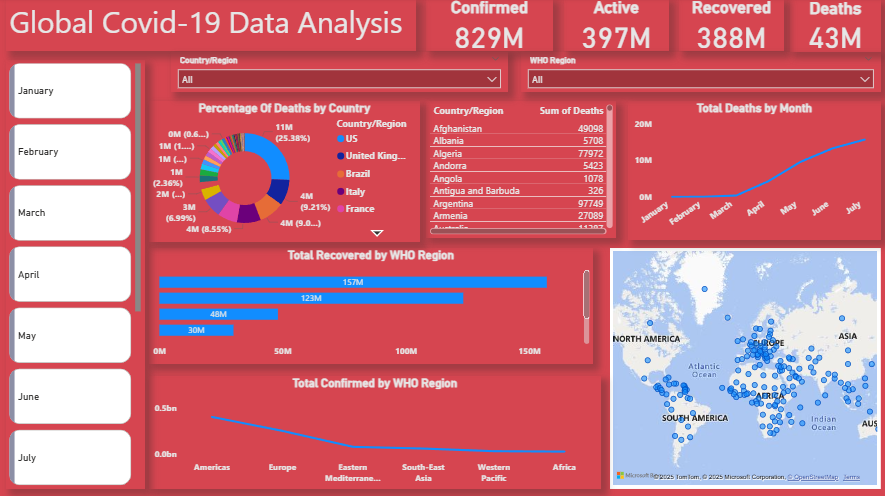

This screenshot's page, from the dashboard's own definition file:
{"tool":"powerbi","page":{"name":"Page 1","canvas":[1280,720],"ordinal":0},"visuals":[{"type":"textbox","box":[10.1,0,591.3,77.3],"z":0},{"type":"card","title":"Confirmed","fields":{"Values":["Sum(covid_19_clean_complete.Confirmed)"]},"box":[614.8,0,183.1,77.3],"z":1000},{"type":"card","title":"Active","fields":{"Values":["Sum(covid_19_clean_complete.Active)"]},"box":[813,0,151.2,77.3],"z":2000},{"type":"card","title":"Recovered","fields":{"Values":["Sum(covid_19_clean_complete.Recovered)"]},"box":[979.3,0,151.2,77.3],"z":3000},{"type":"card","title":"Deaths","fields":{"Values":["Sum(covid_19_clean_complete.Deaths)"]},"box":[1138.9,1.7,131,75.6],"z":4000},{"type":"advancedSlicerVisual","fields":{"Values":["covid_19_clean_complete.Date.Variation.Date Hierarchy.Month"]},"box":[10.1,89,199.9,618.2],"z":5000},{"type":"map","fields":{"Category":["covid_19_clean_complete.Country/Region"]},"box":[879.8,360,390.2,347],"z":6000},{"type":"lineChart","title":"Total Deaths by Month","fields":{"Y":["Sum(covid_19_clean_complete.Deaths)"],"Category":["covid_19_clean_complete.Date.Variation.Date Hierarchy.Month","covid_19_clean_complete.Date.Variation.Date Hierarchy.Day"]},"box":[905.8,148.3,364.3,200.2],"z":7000},{"type":"donutChart","title":"Percentage Of Deaths by Country","fields":{"Y":["Sum(covid_19_clean_complete.Deaths)"],"Category":["covid_19_clean_complete.Country/Region"]},"box":[216,148.3,390.2,203],"z":8000},{"type":"lineChart","title":"Total Confirmed by WHO Region","fields":{"Y":["Sum(covid_19_clean_complete.Confirmed)"],"Category":["covid_19_clean_complete.WHO Region"]},"box":[216,544.3,650.9,162.7],"z":9000},{"type":"tableEx","fields":{"Values":["covid_19_clean_complete.Country/Region","Sum(covid_19_clean_complete.Deaths)"]},"box":[614.9,148.3,273.6,197.3],"z":10000},{"type":"barChart","title":"Total Recovered by WHO Region","fields":{"Category":["covid_19_clean_complete.WHO Region"],"Y":["Sum(covid_19_clean_complete.Recovered)"]},"box":[216,360,639.4,167],"z":11000},{"type":"slicer","fields":{"Values":["covid_19_clean_complete.Country/Region"]},"box":[247.7,77.8,485.3,57.6],"z":12000},{"type":"slicer","fields":{"Values":["covid_19_clean_complete.WHO Region"]},"box":[751.7,77.8,518.4,57.6],"z":13000}]}

Visuals, with their boxes in screenshot pixels (x1, y1, x2, y2), scaled from the page's 1280x720 canvas onto the 885x496 screenshot:
textbox: region(7, 0, 416, 53)
"Confirmed" card: region(425, 0, 552, 53)
"Active" card: region(562, 0, 667, 53)
"Recovered" card: region(677, 0, 782, 53)
"Deaths" card: region(787, 1, 878, 53)
advancedSlicerVisual - covid_19_clean_complete.Date.Variation.Date Hierarchy.Month: region(7, 61, 145, 487)
map - covid_19_clean_complete.Country/Region: region(608, 248, 878, 487)
"Total Deaths by Month" lineChart: region(626, 102, 878, 240)
"Percentage Of Deaths by Country" donutChart: region(149, 102, 419, 242)
"Total Confirmed by WHO Region" lineChart: region(149, 375, 599, 487)
tableEx - covid_19_clean_complete.Country/Region x Sum(covid_19_clean_complete.Deaths): region(425, 102, 614, 238)
"Total Recovered by WHO Region" barChart: region(149, 248, 591, 363)
slicer - covid_19_clean_complete.Country/Region: region(171, 54, 507, 93)
slicer - covid_19_clean_complete.WHO Region: region(520, 54, 878, 93)
